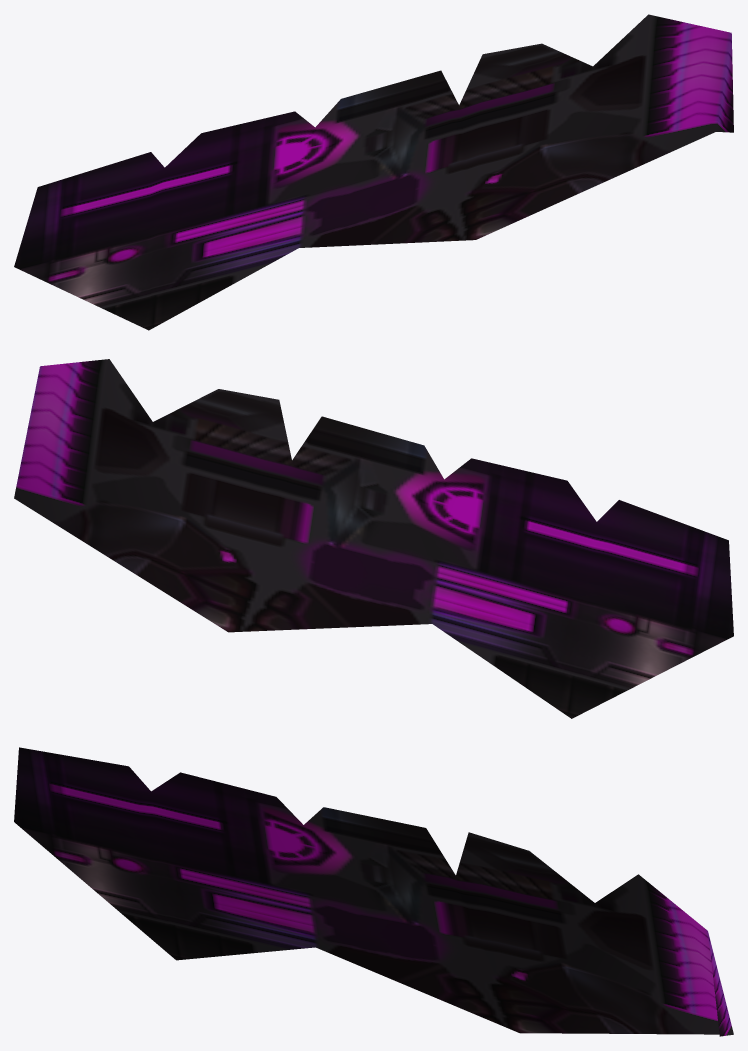
File: xiaya.FBX
The picture shows the model from 3 angles, top to bottom: view 1: azimuth 30°, elevation 25°; view 2: azimuth 150°, elevation 25°; view 3: azimuth 330°, elevation 25°; orthographic projection. The views are drawn at different scales.
Visible parts, largest first — view 1: p_artillery_wp; view 2: p_artillery_wp; view 3: p_artillery_wp.
Boxes of the visible parts, x1=… form: p_artillery_wp: x1=14, y1=14, x2=733, y2=330; p_artillery_wp: x1=14, y1=359, x2=733, y2=718; p_artillery_wp: x1=14, y1=747, x2=733, y2=1036.
Size of the model in its own units: 20.56 by 6.09 by 1.82.
